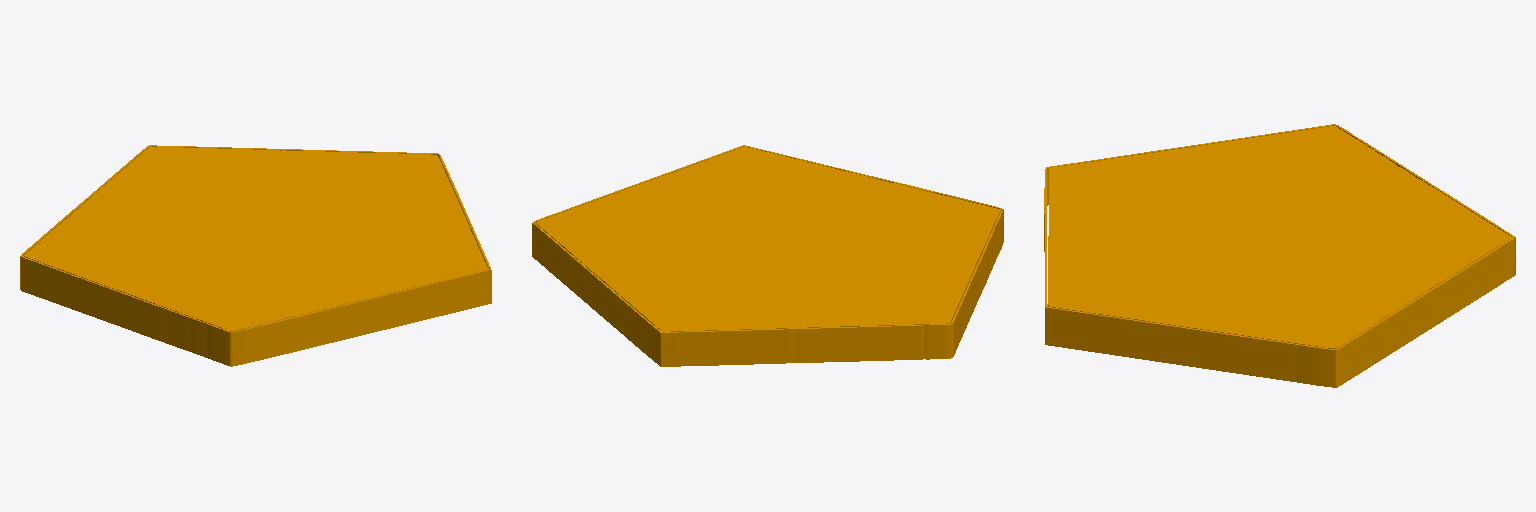
robot.urdf — pentagon.urdf:
<?xml version="1.0" encoding="utf-8"?>
<robot name="pentagon.urdf">
  <link name="baseLink">
    <contact>
      <lateral_friction value="0.5"/>
      <rolling_friction value="0.001"/>
      <spinning_friction value="0.001"/>
    </contact>
    <inertial>
      <origin rpy="0 0 0" xyz="0 0 0"/>
      <mass value="0.05"/>
      <inertia ixx="1" ixy="0" ixz="0" iyy="1" iyz="0" izz="1"/>
    </inertial>
    <visual>
      <origin rpy="0 0 0" xyz="0 0 0"/>
      <geometry>
        <mesh filename="pentagon.obj" scale="0.2 0.2 0.1"/> <!-- Scale x and y by 3.5, z by 1.0 -->
      </geometry>
    </visual>
    <collision>
      <origin rpy="0 0 0" xyz="0 0 0"/>
      <geometry>
        <mesh filename="pentagon.obj" scale="0.2 0.2 0.1"/> <!-- Scale x and y by 3.5, z by 1.0 -->
      </geometry>
    </collision>
  </link>
</robot>

--- Facts derived from the render (not from the file) ---
3 views of the same robot in one strip: view 1: azimuth 30°, elevation 25°; view 2: azimuth 150°, elevation 25°; view 3: azimuth 270°, elevation 25° (orthographic).
Robot: pentagon.urdf — 1 links, 0 joints (none); root link baseLink; default pose: every joint at zero.
Visible links, largest first — view 1: baseLink; view 2: baseLink; view 3: baseLink.
Boxes of the visible links, <box> form: baseLink: <box>20,145,491,366</box>; baseLink: <box>532,145,1003,366</box>; baseLink: <box>1044,124,1515,387</box>.
Size in the robot's own frame: 0.5074 by 0.4469 by 0.0394 metres.
Meshes: 1 distinct files referenced, 1 mesh visuals loaded (1 OBJ).